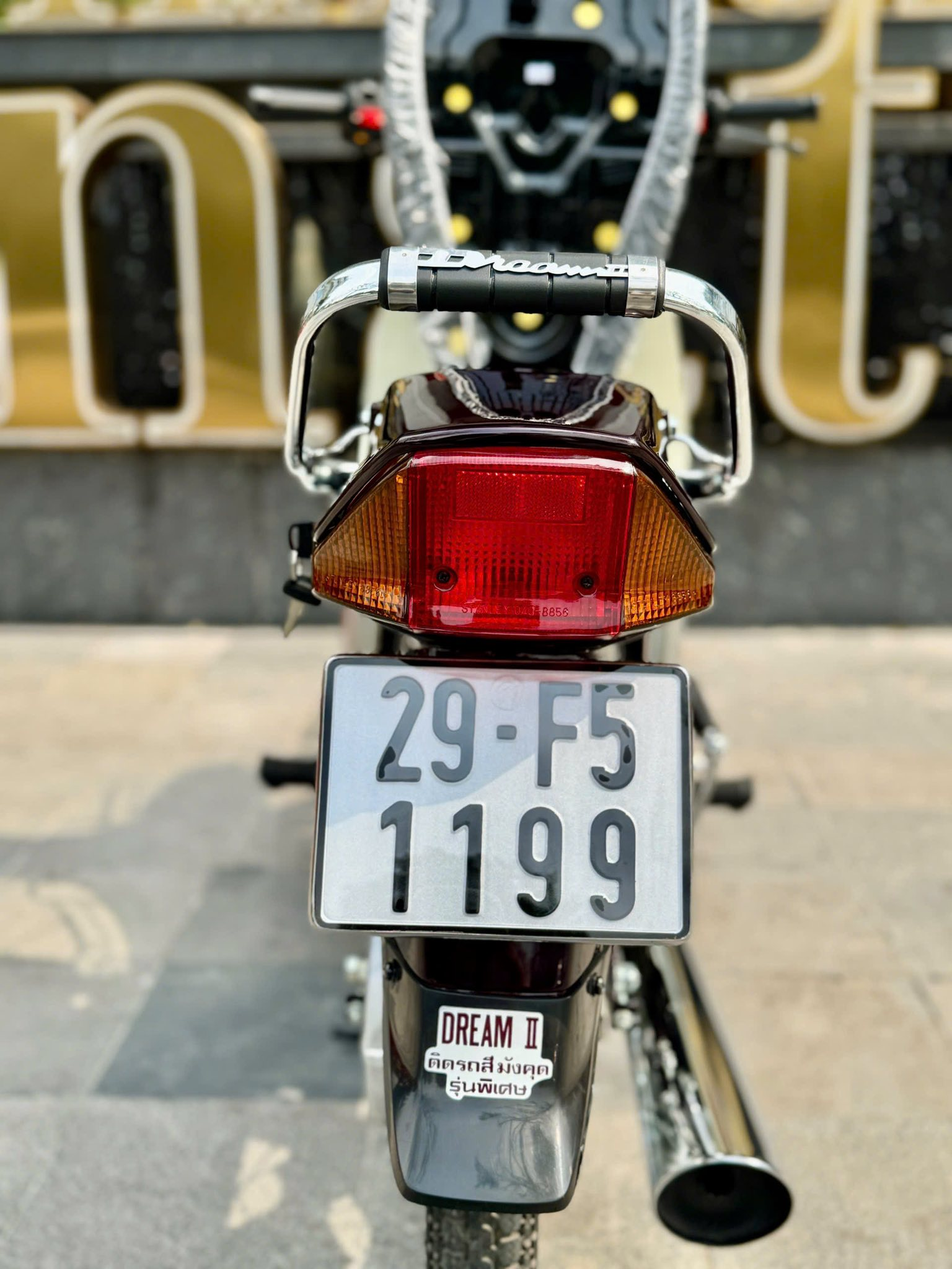bien_so: (305, 648, 700, 955)
